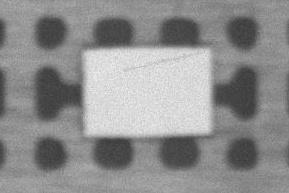DIE_CRACK: (186, 35, 289, 47)
